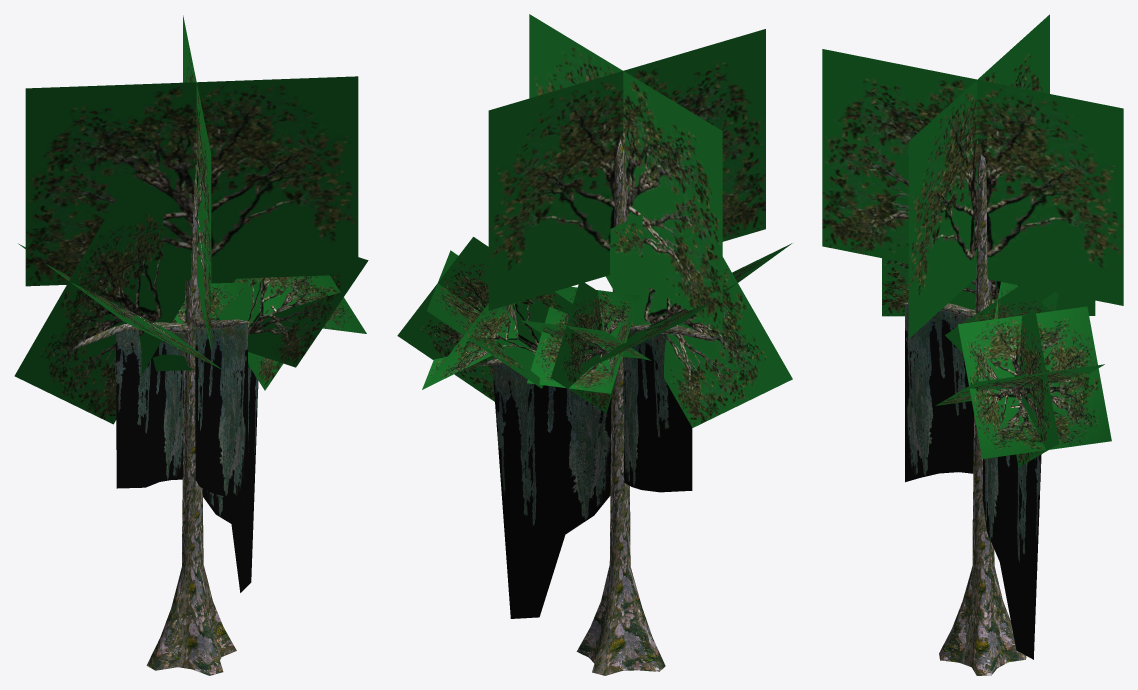
The model's file is decd_mosstreeflared_l0.fbx.
3 views of the same model, side by side, from view 1: azimuth 30°, elevation 25°; view 2: azimuth 150°, elevation 25°; view 3: azimuth 270°, elevation 25° (orthographic).
Parts seen in each view (by area): view 1: mesh_node; view 2: mesh_node; view 3: mesh_node.
Part boxes in pixels (x1,y1,x2,y2): mesh_node: (14,15,368,675); mesh_node: (397,14,792,675); mesh_node: (822,14,1123,675).
Bounding box in the file's own units: 10.33 × 15.97 × 7.57.
